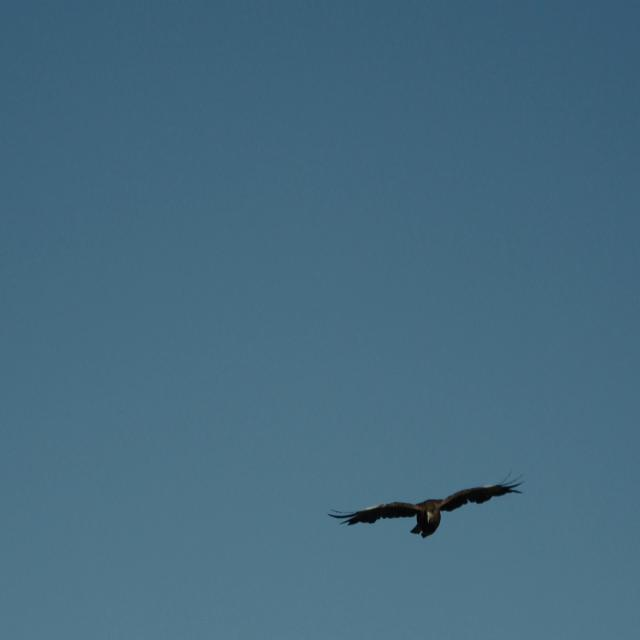bird: (329, 456, 529, 551)
